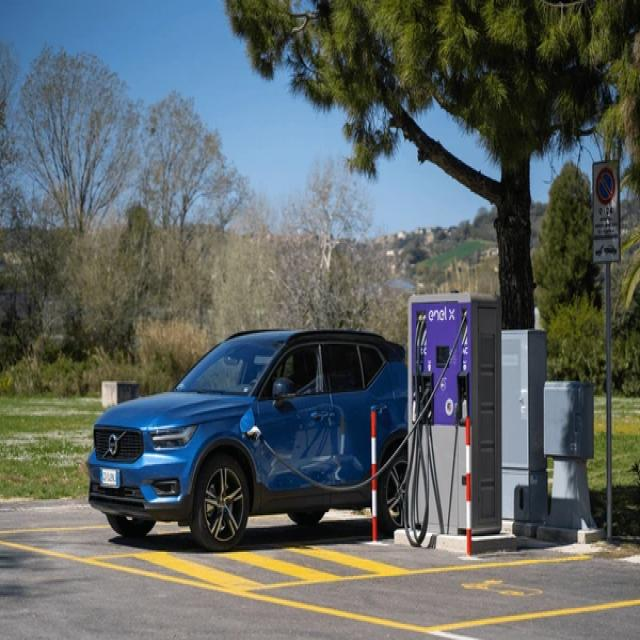volvo: (105, 428, 129, 462)
